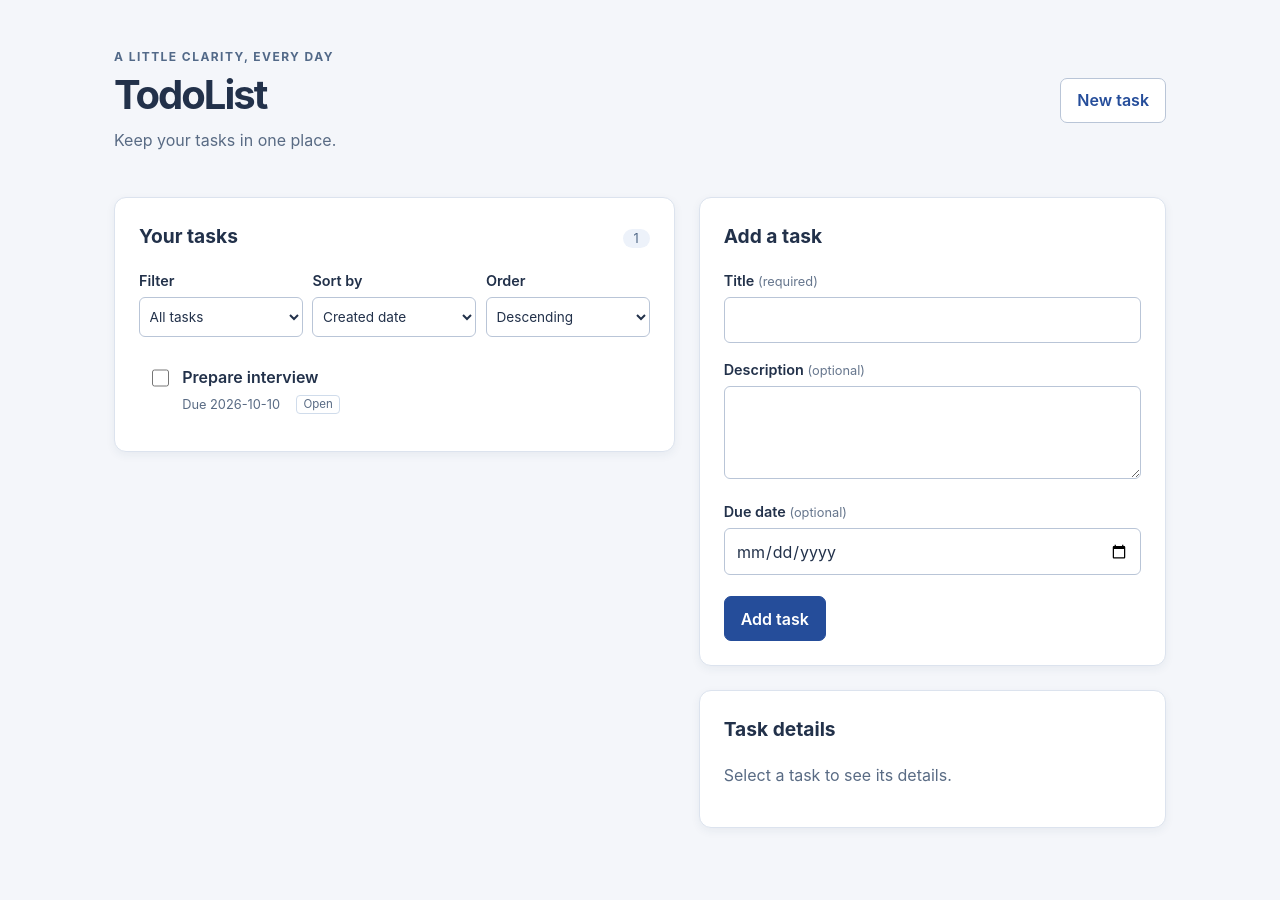
Test: task workflow › refreshes the active filtered view after completion and retains its controls
Expected: the checkbox is shown, [152,369,169,387]
Select "Incomplete" in the dropdown labelled "Filter": (221, 317) [139,297,303,337]
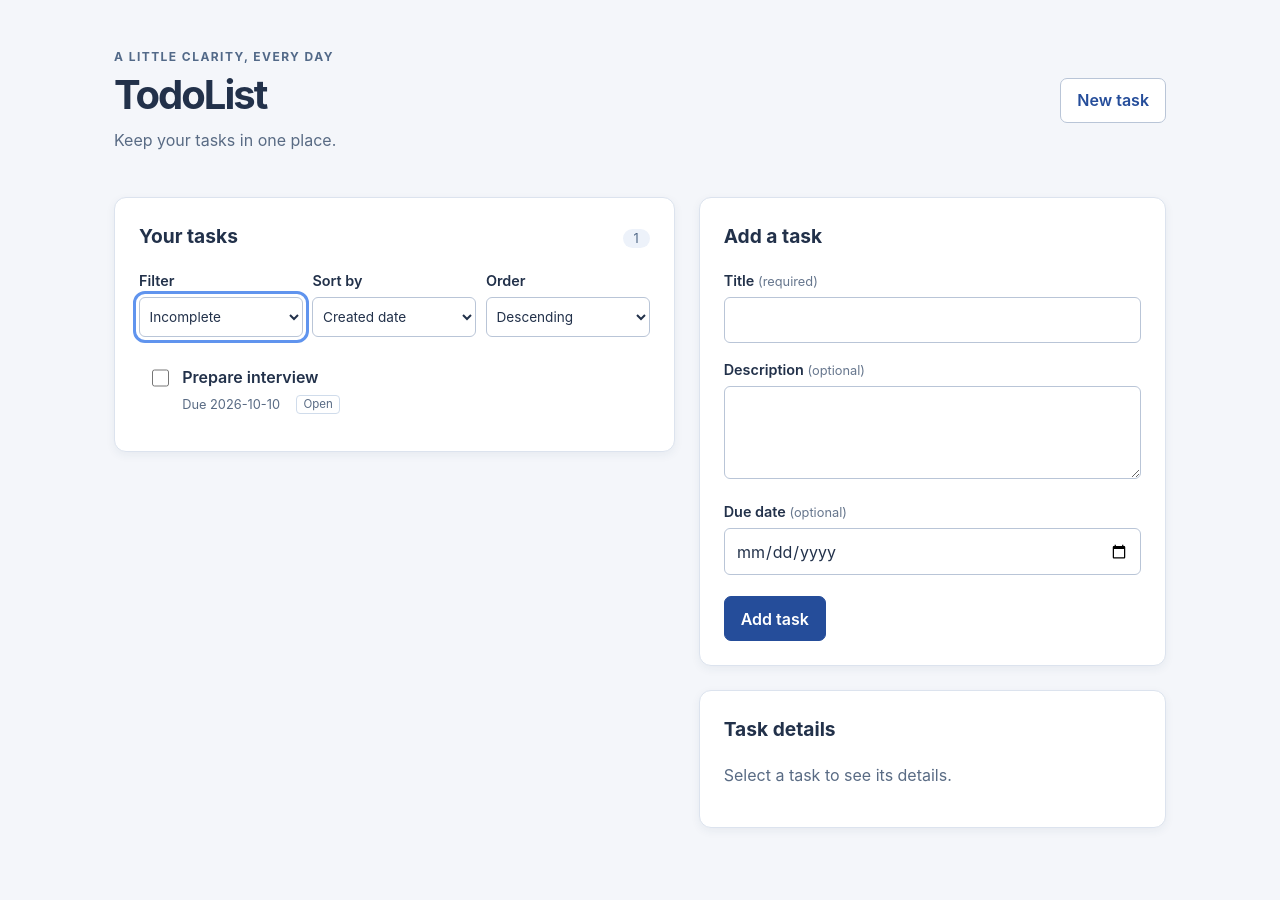
Expected: the checkbox is shown, [152,369,169,387]
Select "Due date" in the dropdown labelled "Sort by": (394, 317) [312,297,476,337]
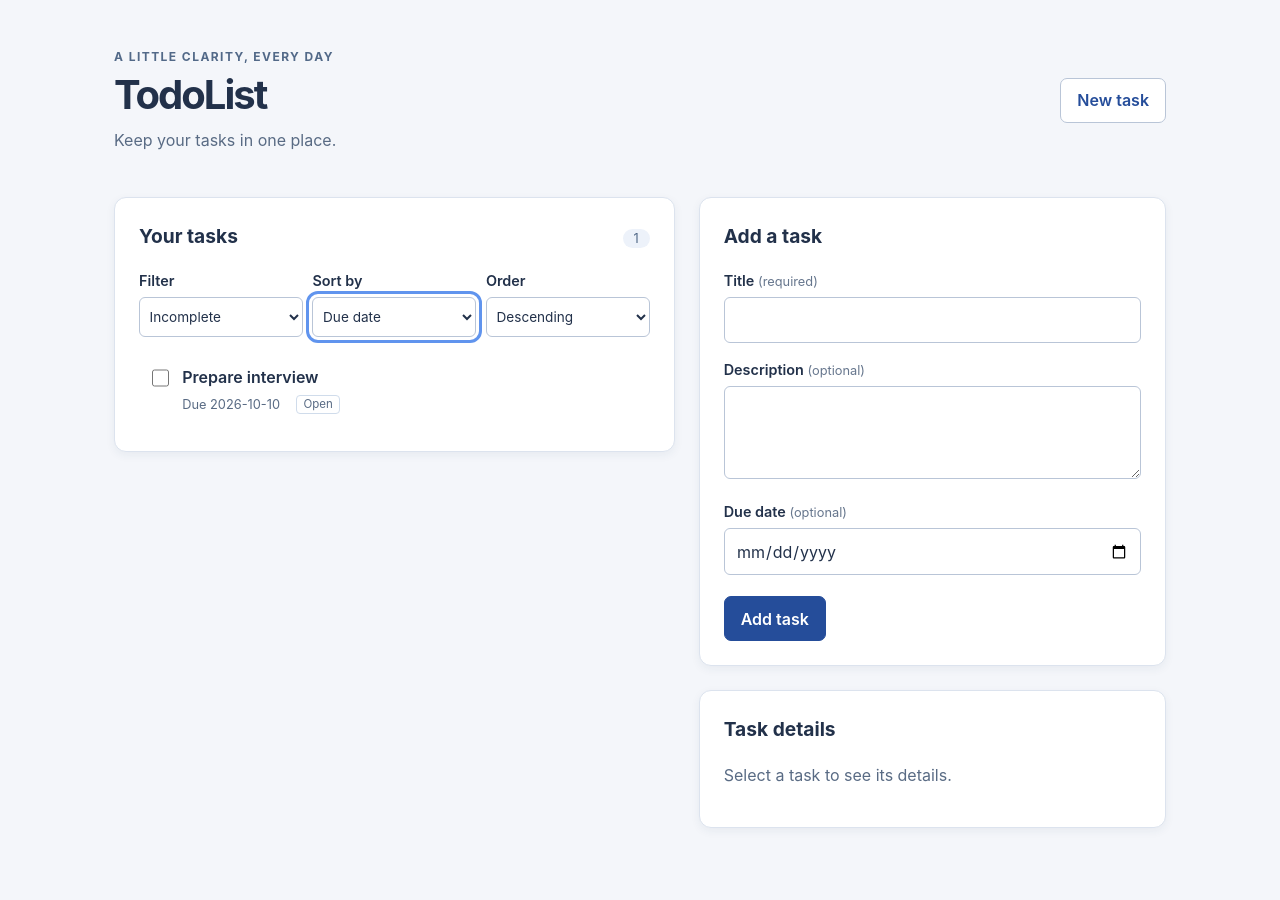
Select "Ascending" in the dropdown labelled "Order": (568, 317) [486,297,650,337]
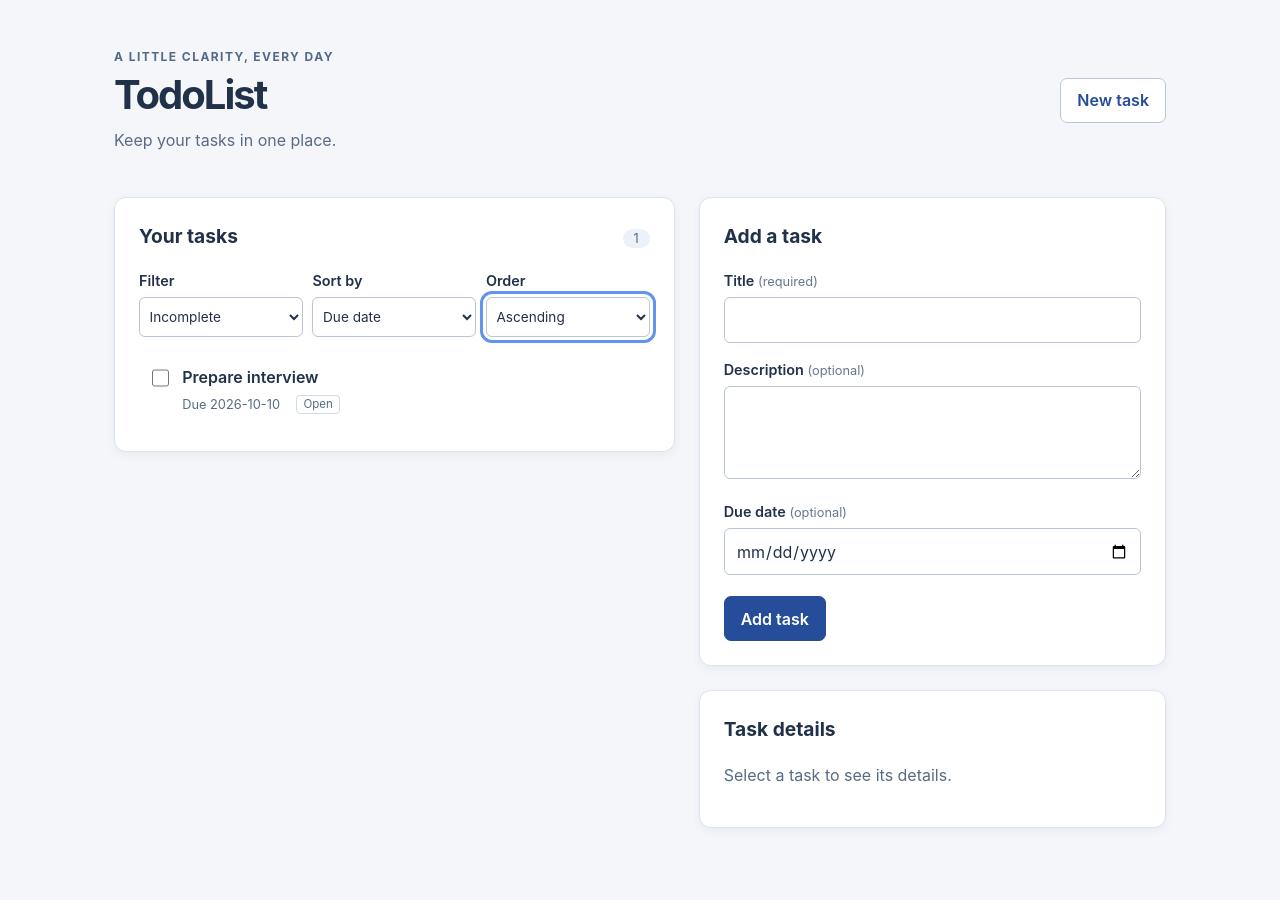
Click the checkbox: (161, 378) [152,369,169,387]
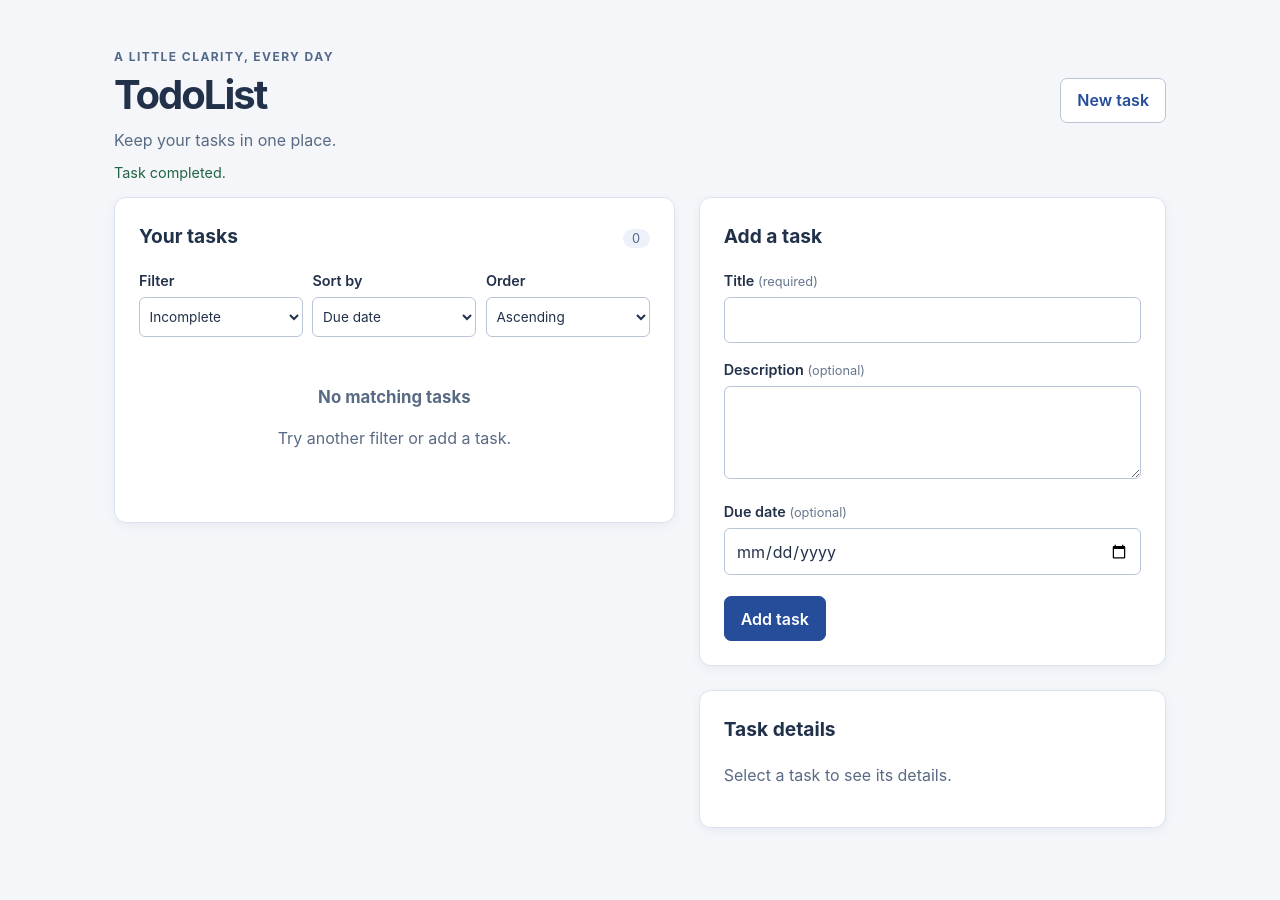
Now the heading "No matching tasks" is shown, box [318,387,471,407]
Select "Completed" in the dropdown labelled "Filter": (221, 317) [139,297,303,337]
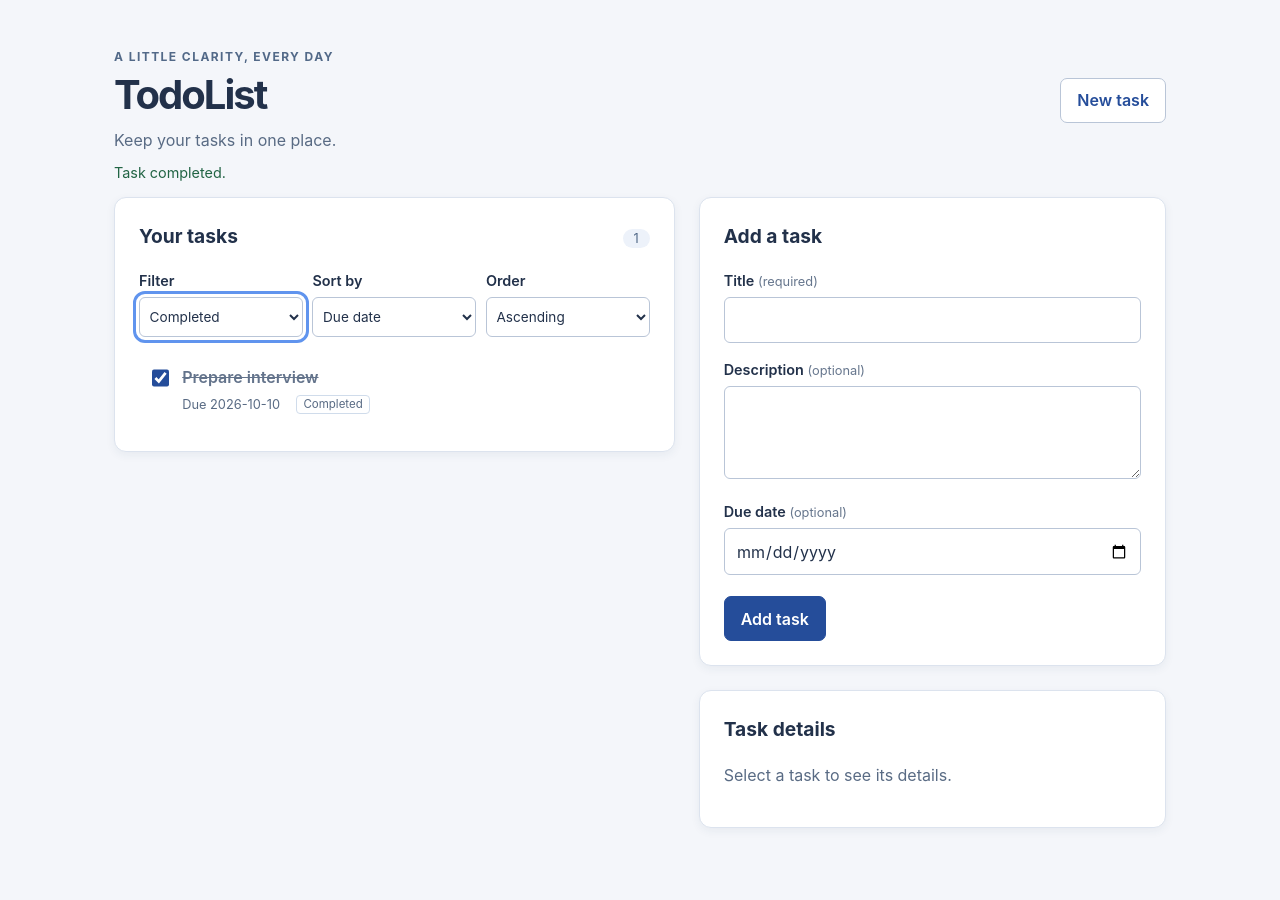
Now the checkbox named "Mark Prepare interview incomplete" is shown, box [152,369,169,387]
